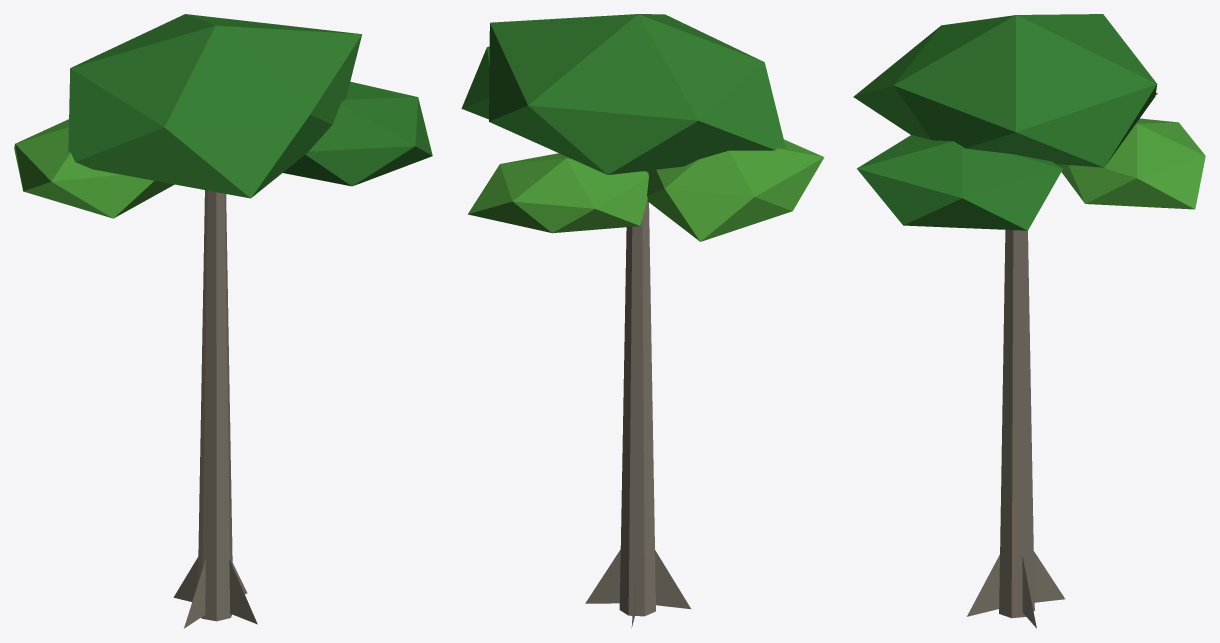
File: tropical.glb
3 views of the same model, side by side, from view 1: azimuth 30°, elevation 25°; view 2: azimuth 150°, elevation 25°; view 3: azimuth 270°, elevation 25° (orthographic).
Visible parts, largest first — view 1: tropical; view 2: tropical; view 3: tropical.
Part boxes in pixels (x1,y1,x2,y2): tropical: (14, 14, 432, 628); tropical: (461, 14, 824, 627); tropical: (853, 14, 1205, 628).
Bounding box in the file's own units: 15.26 × 24.48 × 13.14.
1 material, 1 textured.
